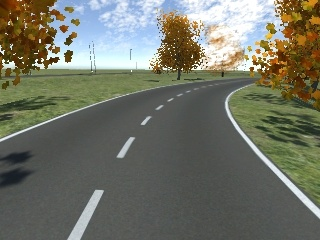Line slipt: (117, 103, 166, 161)
